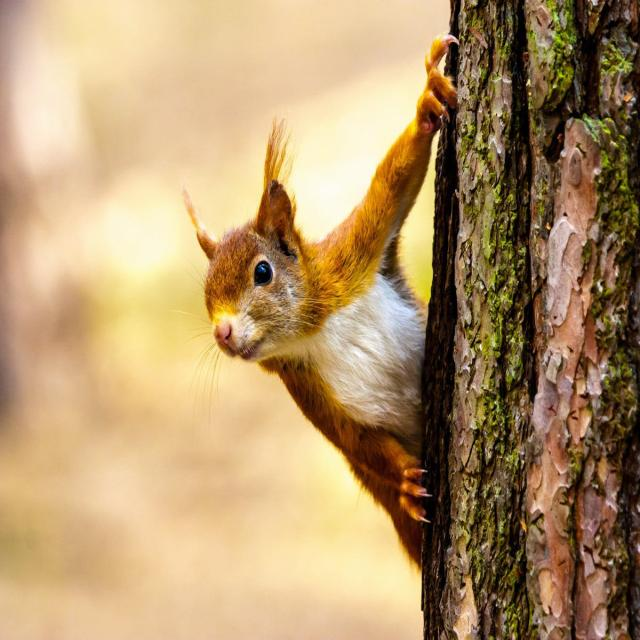Squirrel: (179, 34, 446, 589)
